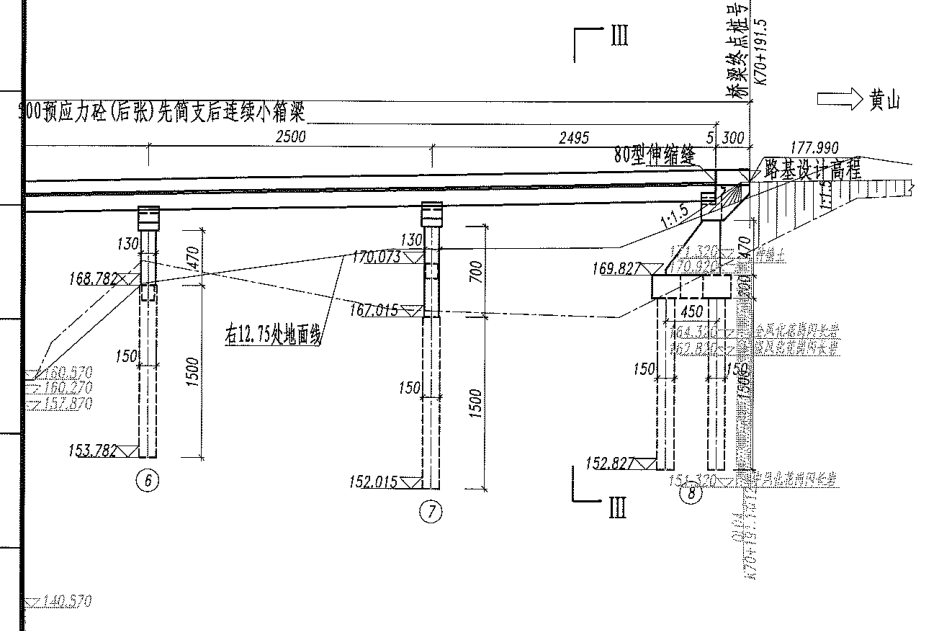C: (338, 189, 459, 528), (62, 196, 180, 498), (589, 254, 729, 507)
